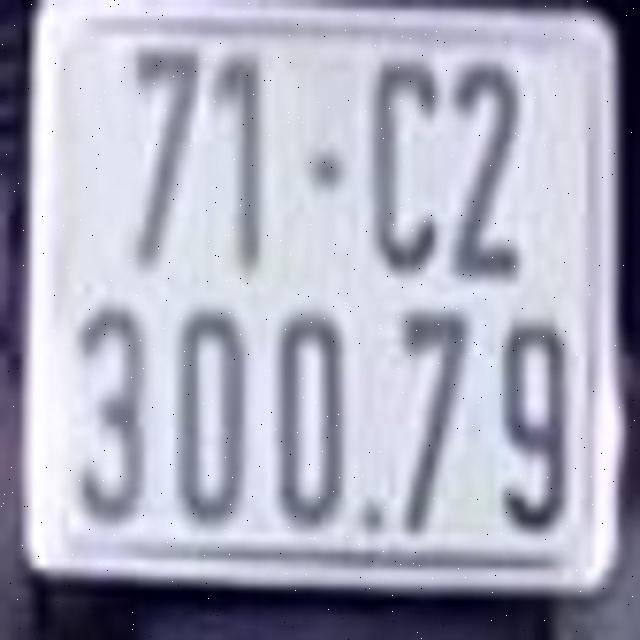0: (276, 308, 346, 527), (176, 306, 246, 523)
1: (211, 47, 271, 274)
2: (450, 59, 523, 279)
3: (75, 303, 148, 523)
7: (126, 39, 202, 268), (397, 304, 469, 533)
9: (499, 316, 568, 532)
C: (368, 57, 441, 270)
